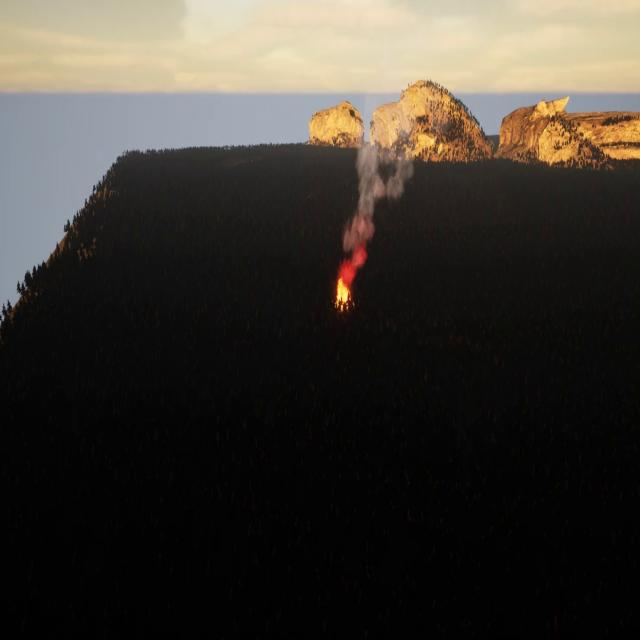fire: (336, 278, 350, 308)
smoke: (338, 140, 413, 286)
